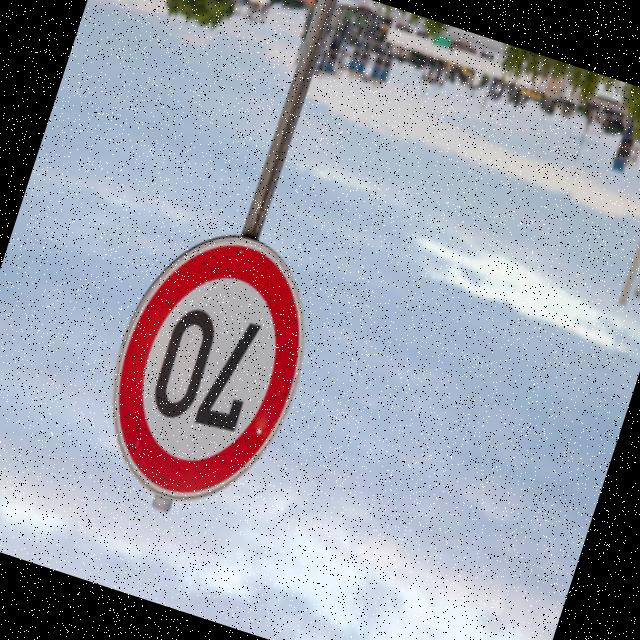speed_limit_70: (74, 208, 334, 531)
